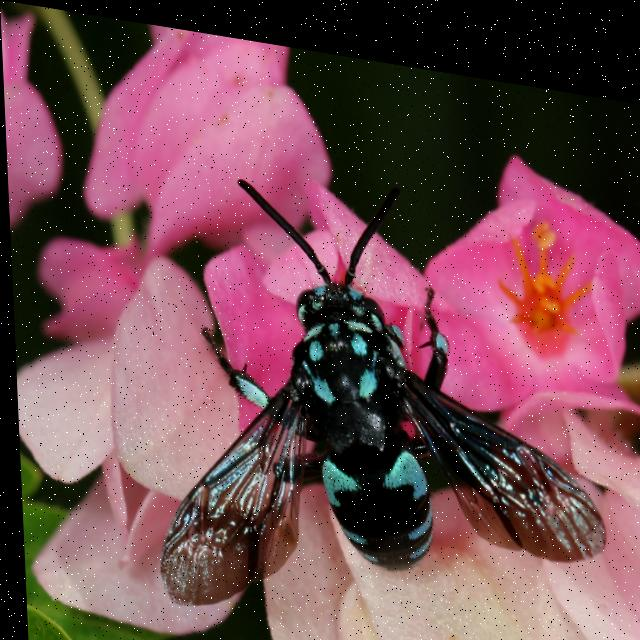Thyreus: (107, 128, 603, 640)
